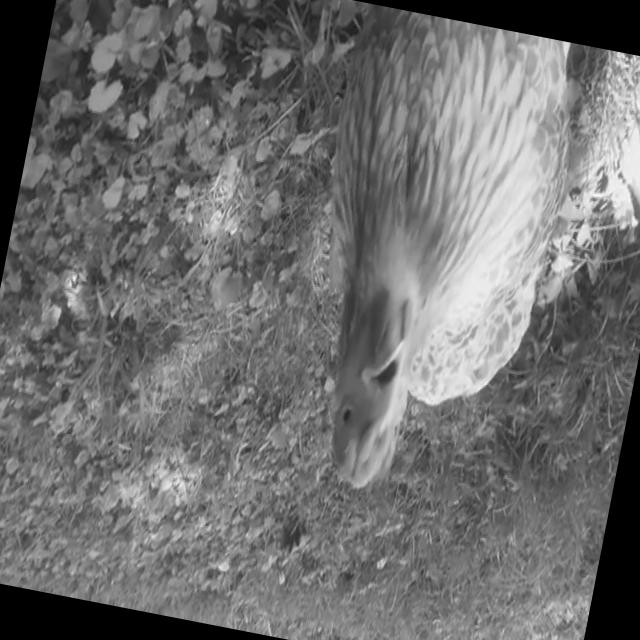Breathing: (266, 3, 592, 520)
